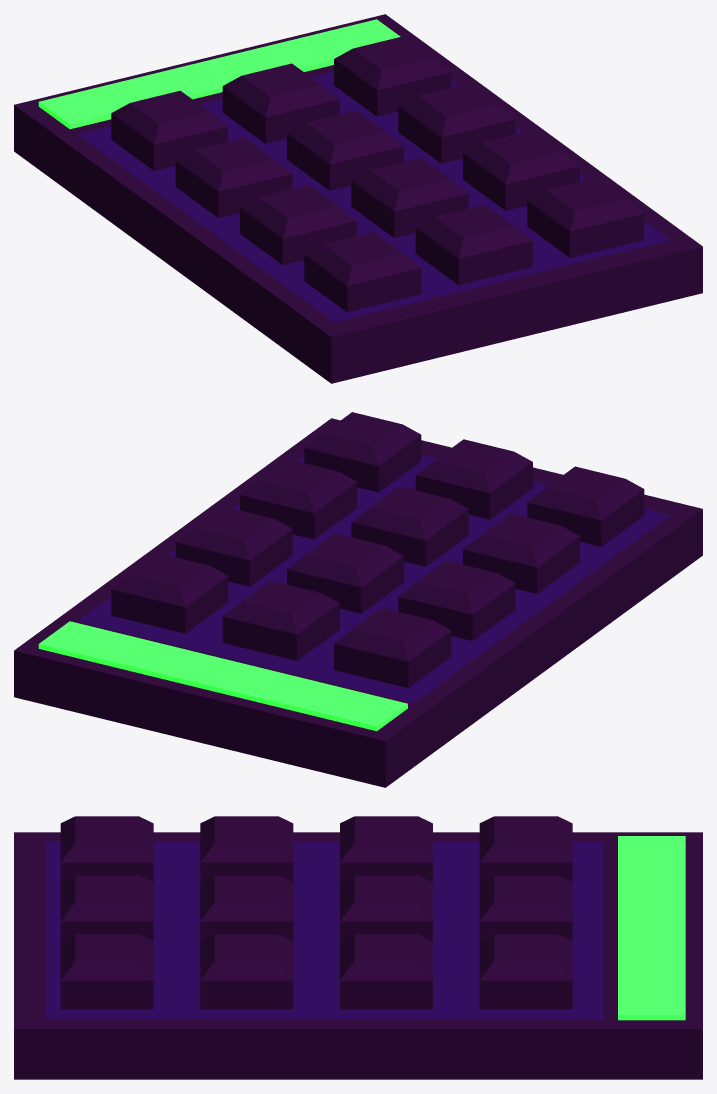
File: Keypad_V2_LowPoly.fbx
3 renders of one model, top to bottom at view 1: azimuth 30°, elevation 25°; view 2: azimuth 150°, elevation 25°; view 3: azimuth 270°, elevation 25°, orthographic. The views are drawn at different scales.
Visible parts, largest first — view 1: Base_Baked, Screen_Baked, NumClear_Baked, NumEnter_Baked, Num0_Baked, Num4_Baked, Num2_Baked, Num3_Baked, Num5_Baked, Num6_Baked, Num8_Baked, Num1_Baked (+2 smaller); view 2: Base_Baked, Screen_Baked, Num2_Baked, Num1_Baked, Num3_Baked, NumEnter_Baked, Num6_Baked, Num5_Baked, Num0_Baked, Num8_Baked, NumClear_Baked, Num4_Baked (+2 smaller); view 3: Base_Baked, Screen_Baked, Num9_Baked, NumClear_Baked, Num3_Baked, Num6_Baked, Num8_Baked, Num7_Baked, Num0_Baked, Num2_Baked, NumEnter_Baked, Num1_Baked (+2 smaller).
Part boxes in pixels (x1=…): Base_Baked: x1=14, y1=14, x2=702, y2=383; Screen_Baked: x1=38, y1=19, x2=400, y2=129; NumClear_Baked: x1=527, y1=177, x2=644, y2=257; NumEnter_Baked: x1=304, y1=232, x2=421, y2=312; Num0_Baked: x1=415, y1=205, x2=532, y2=284; Num4_Baked: x1=175, y1=137, x2=292, y2=217; Num2_Baked: x1=222, y1=63, x2=339, y2=143; Num3_Baked: x1=334, y1=36, x2=451, y2=116; Num5_Baked: x1=287, y1=110, x2=404, y2=190; Num6_Baked: x1=398, y1=83, x2=515, y2=163; Num8_Baked: x1=351, y1=157, x2=468, y2=237; Num1_Baked: x1=111, y1=90, x2=228, y2=170; Base_Baked: x1=14, y1=418, x2=702, y2=787; Screen_Baked: x1=38, y1=621, x2=407, y2=731; Num2_Baked: x1=222, y1=580, x2=339, y2=660; Num1_Baked: x1=334, y1=608, x2=451, y2=688; Num3_Baked: x1=111, y1=553, x2=228, y2=633; NumEnter_Baked: x1=527, y1=466, x2=644, y2=546; Num6_Baked: x1=175, y1=506, x2=292, y2=586; Num5_Baked: x1=287, y1=533, x2=404, y2=613; Num0_Baked: x1=415, y1=439, x2=532, y2=519; Num8_Baked: x1=351, y1=486, x2=468, y2=566; NumClear_Baked: x1=304, y1=412, x2=421, y2=492; Num4_Baked: x1=398, y1=560, x2=515, y2=640; Base_Baked: x1=14, y1=832, x2=702, y2=1079; Screen_Baked: x1=618, y1=836, x2=685, y2=1020; Num9_Baked: x1=200, y1=934, x2=293, y2=1009; NumClear_Baked: x1=60, y1=934, x2=153, y2=1009; Num3_Baked: x1=479, y1=934, x2=572, y2=1009; Num6_Baked: x1=340, y1=934, x2=432, y2=1009; Num8_Baked: x1=200, y1=875, x2=293, y2=941; Num7_Baked: x1=200, y1=816, x2=293, y2=881; Num0_Baked: x1=60, y1=875, x2=153, y2=941; Num2_Baked: x1=479, y1=875, x2=572, y2=941; NumEnter_Baked: x1=60, y1=816, x2=153, y2=882; Num1_Baked: x1=479, y1=816, x2=572, y2=882.
Size of the model in its own units: 50 by 74 by 11.
